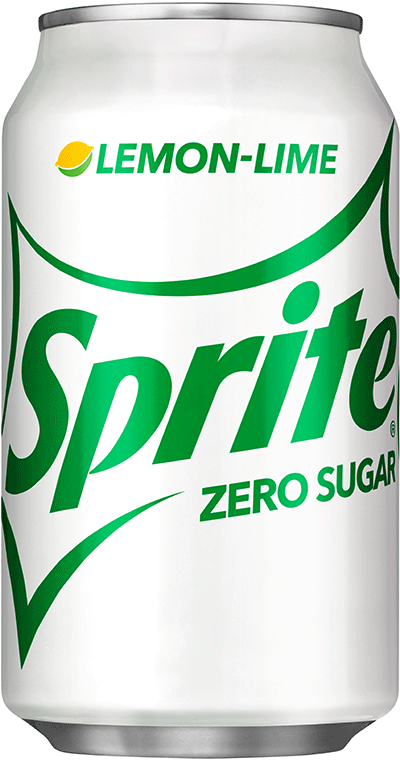Sprite: (10, 14, 400, 731)
